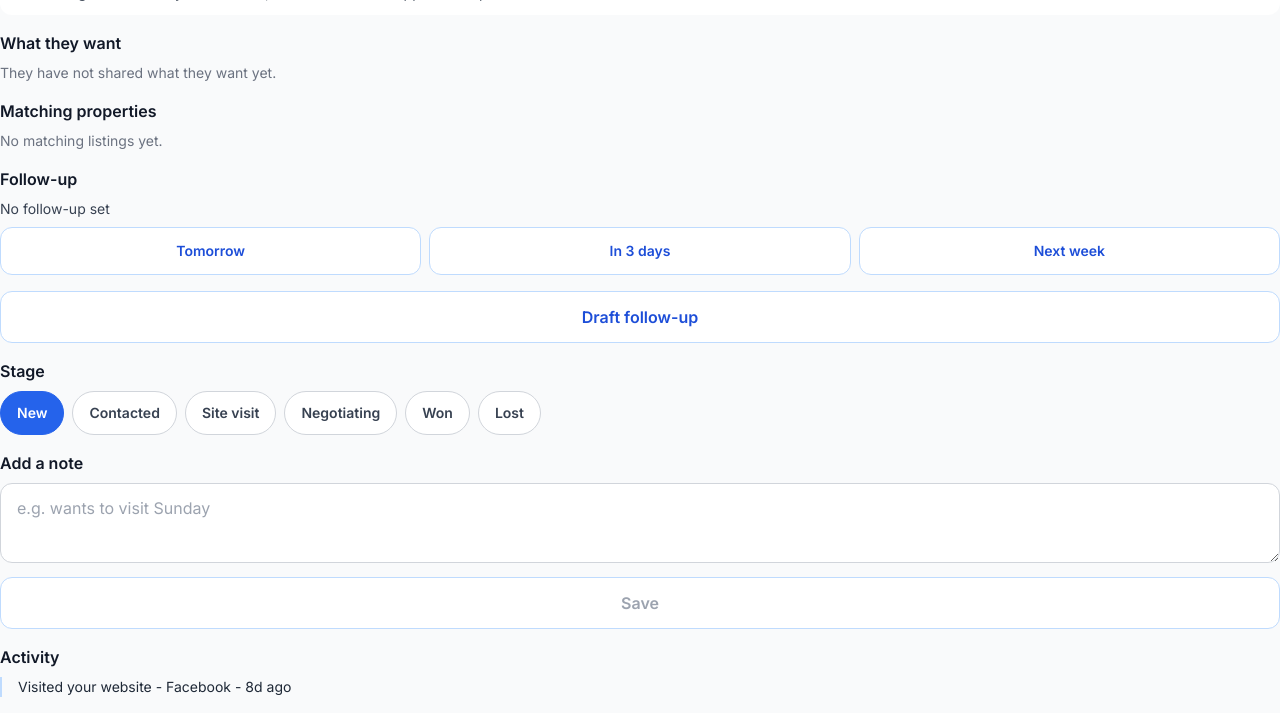
Test case: Why was it lost? sheet (stage Lost) › tapping a reason saves stage lost with that reason
The width and height of the screenshot is (1280, 713).
(page scrolled)
Click the button "Lost". click: coordinates (509, 413)
box: [478, 391, 541, 435]
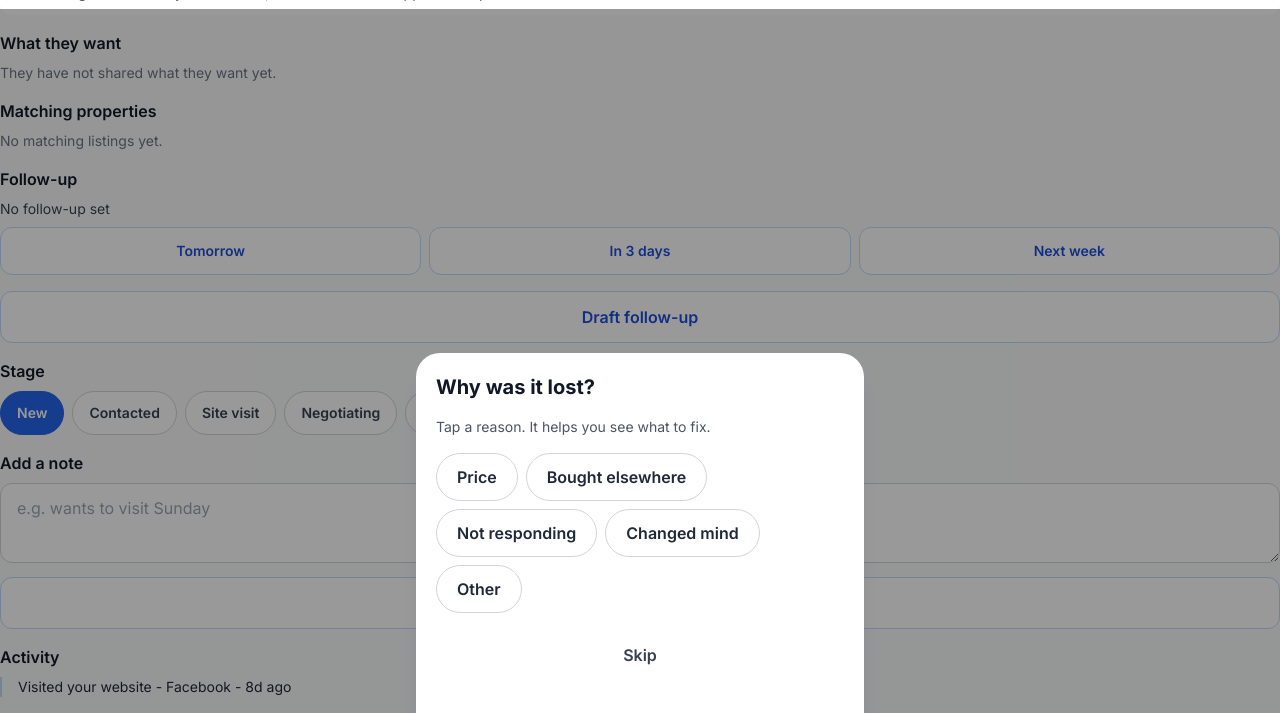
Click the button "Bought elsewhere". click: coordinates (616, 477)
box: [526, 453, 707, 501]
(page scrolled)
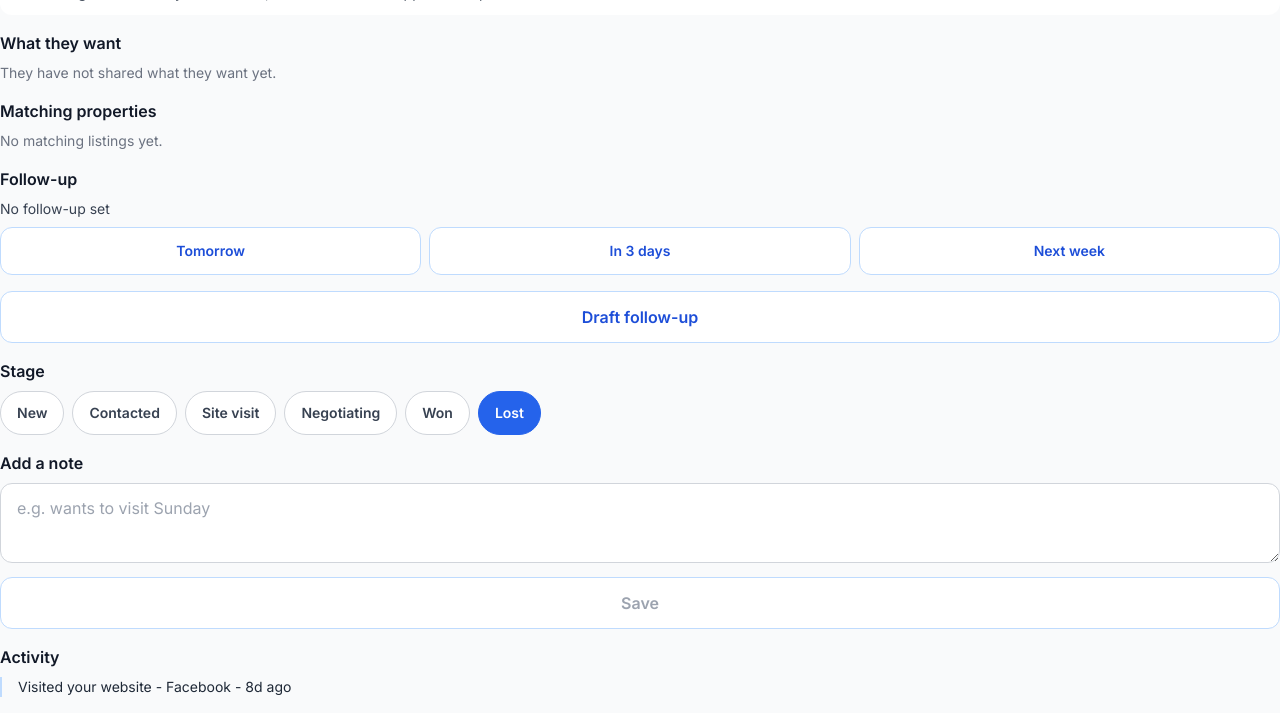
Expected: the button "Lost" is shown, [478, 391, 541, 435]
Now the dialog is gone
